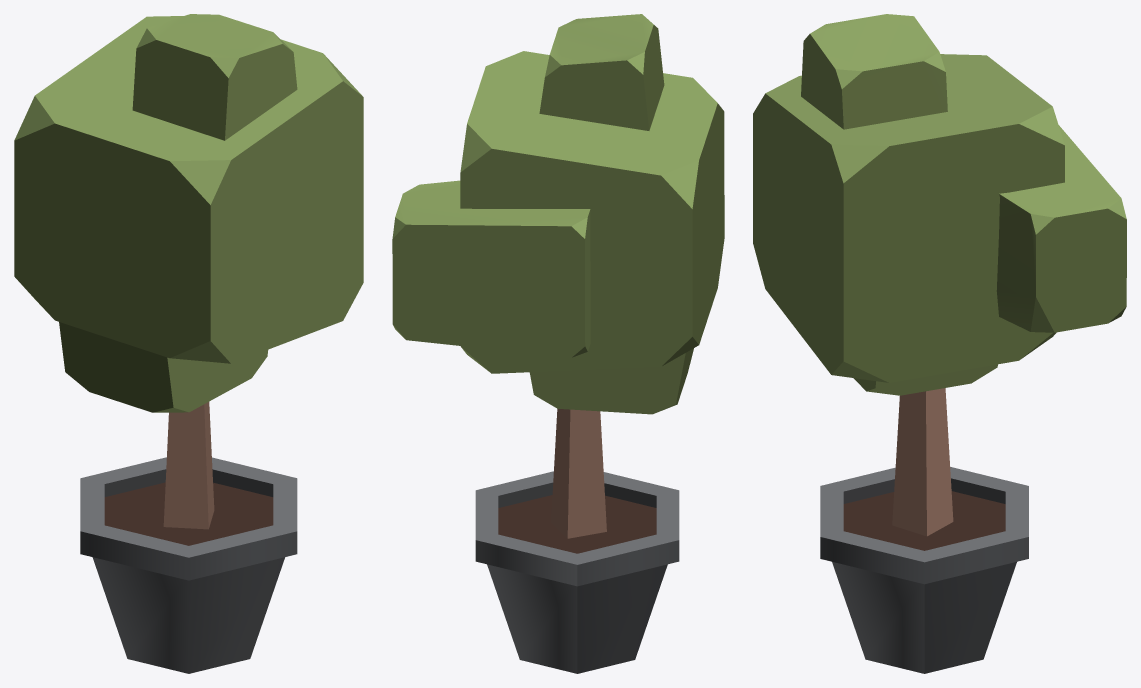
File: SO_Plant_03.fbx
3 views of the same model, side by side, from view 1: azimuth 30°, elevation 25°; view 2: azimuth 150°, elevation 25°; view 3: azimuth 270°, elevation 25° (orthographic). The views are drawn at different scales.
Parts seen in each view (by area): view 1: Office_plant; view 2: Office_plant; view 3: Office_plant.
Part boxes in pixels (x1=…): Office_plant: x1=14, y1=14, x2=363, y2=673; Office_plant: x1=392, y1=14, x2=724, y2=673; Office_plant: x1=753, y1=14, x2=1126, y2=673.
Bounding box in the file's own units: 24.6 × 29.44 × 52.78.
1 material, 1 textured.
